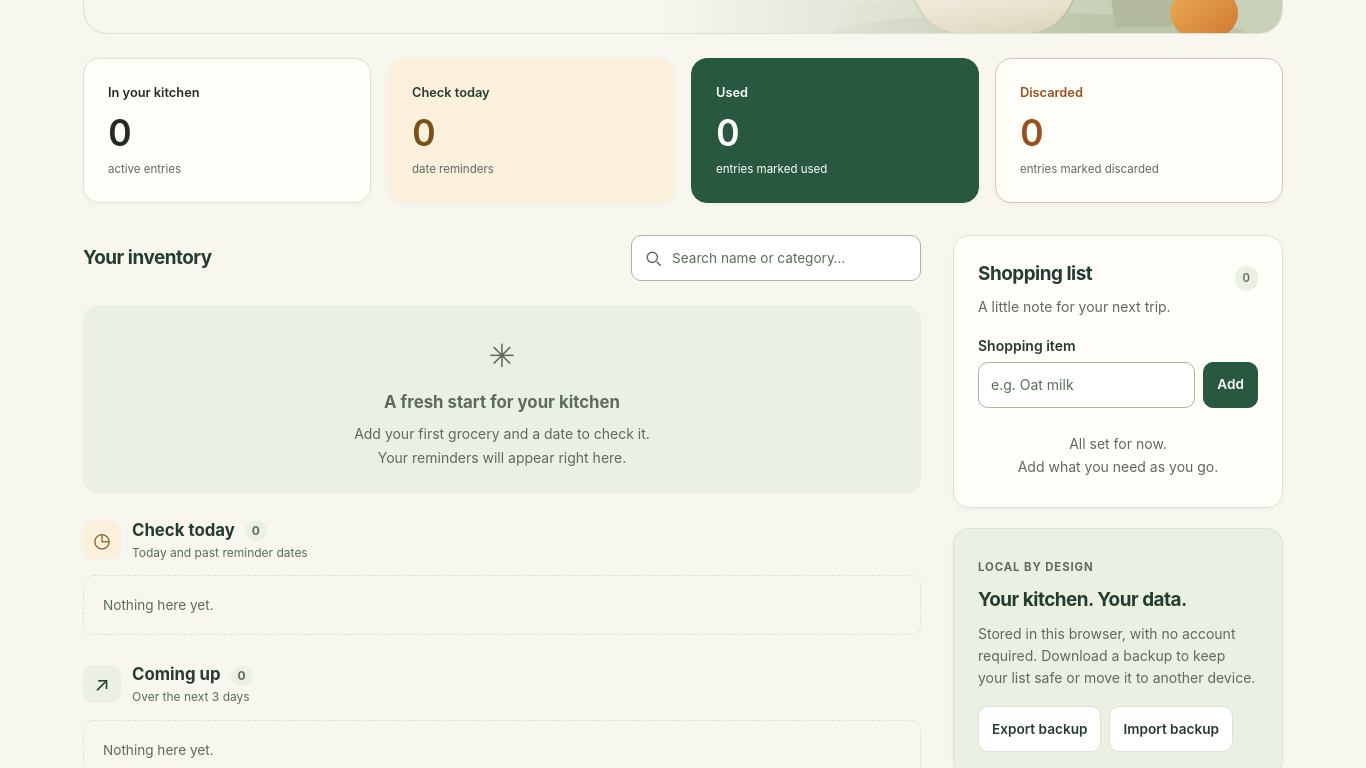
Scenario: kitchen workflow › keeps in-memory edits and warns when storage fails
(page scrolled)
Type "Apples" into the field labelled "Shopping item" at (1087, 385), box [978,362,1195,408]
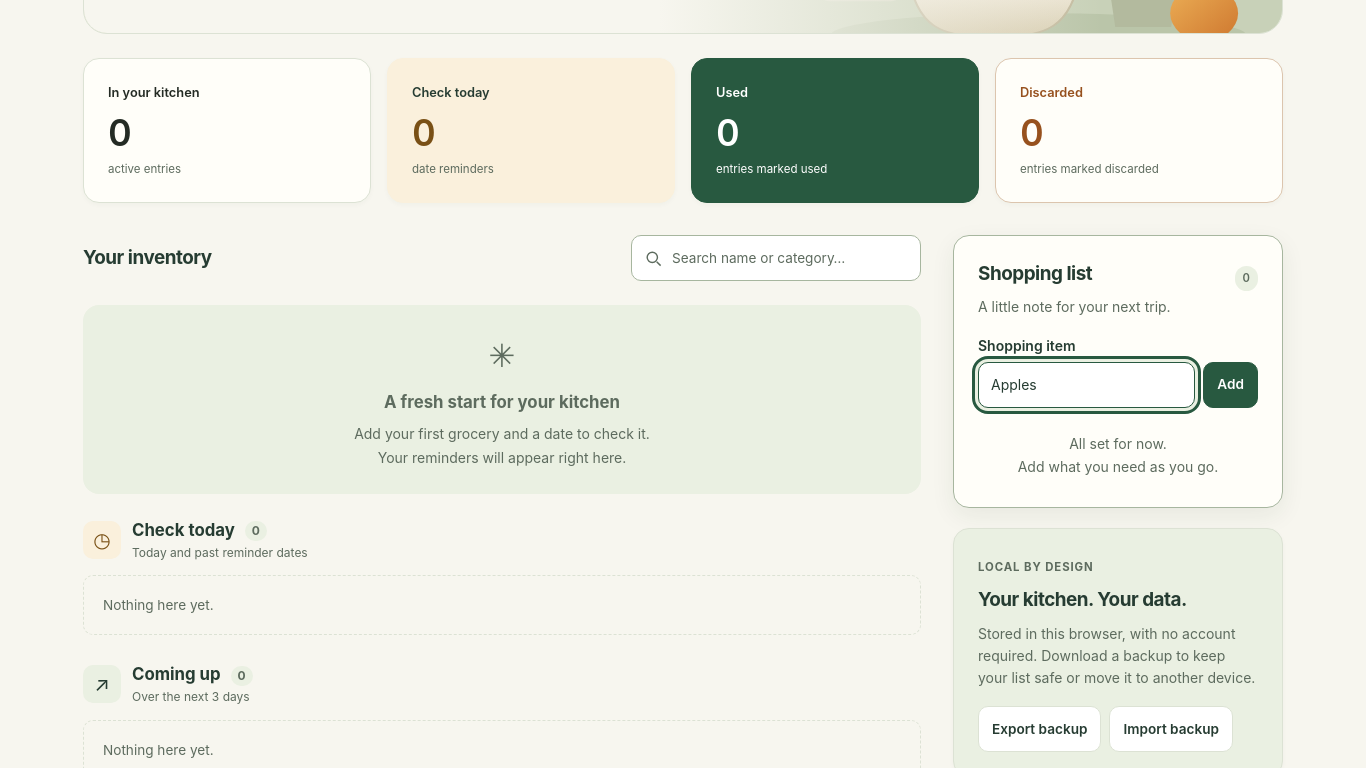
Click the button "Add" at (1231, 385), box [1203,362,1258,408]
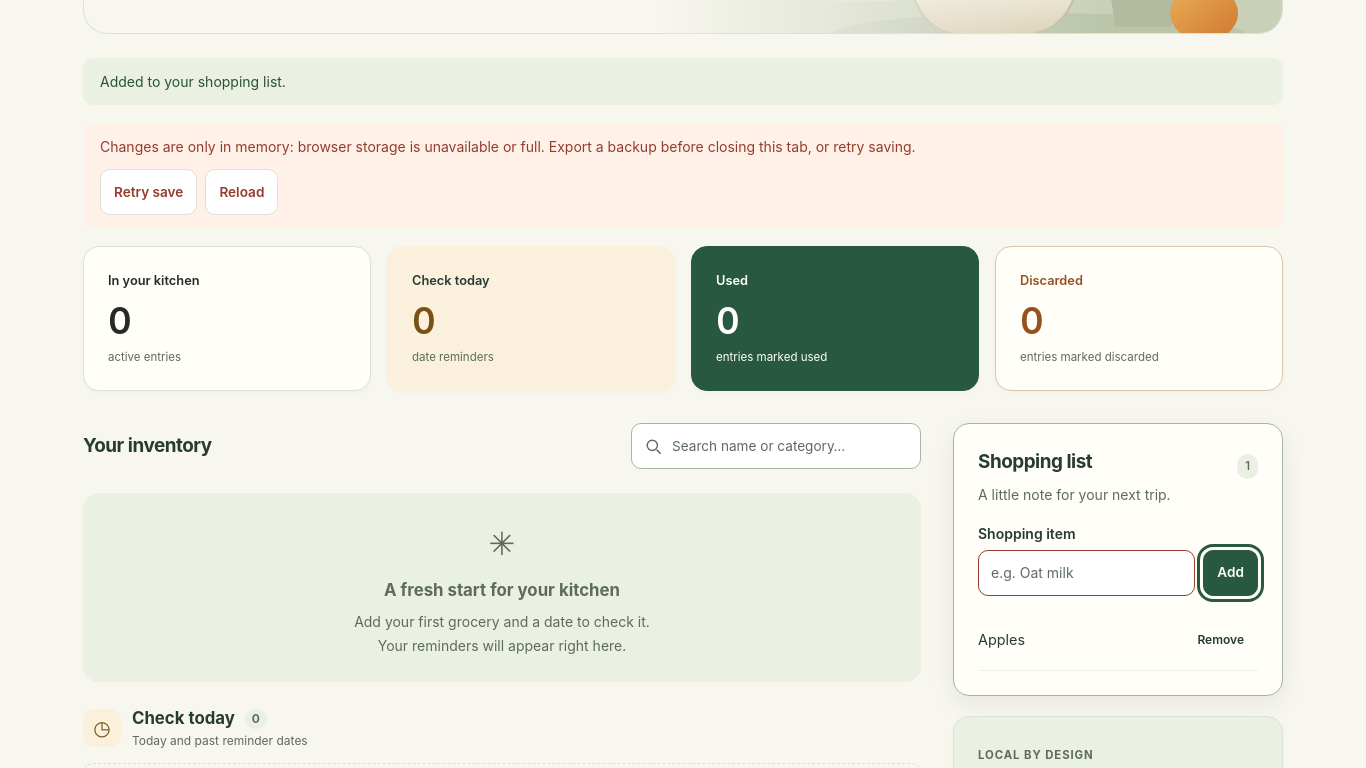
Now the button with aria-label "Remove Apples from shopping list" is shown, box [1183,617,1258,663]
Now the 2nd message shows "only in memory", box [100,138,916,155]
